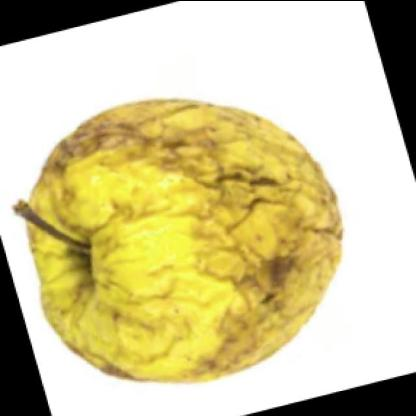defect: (88, 107, 334, 370)
